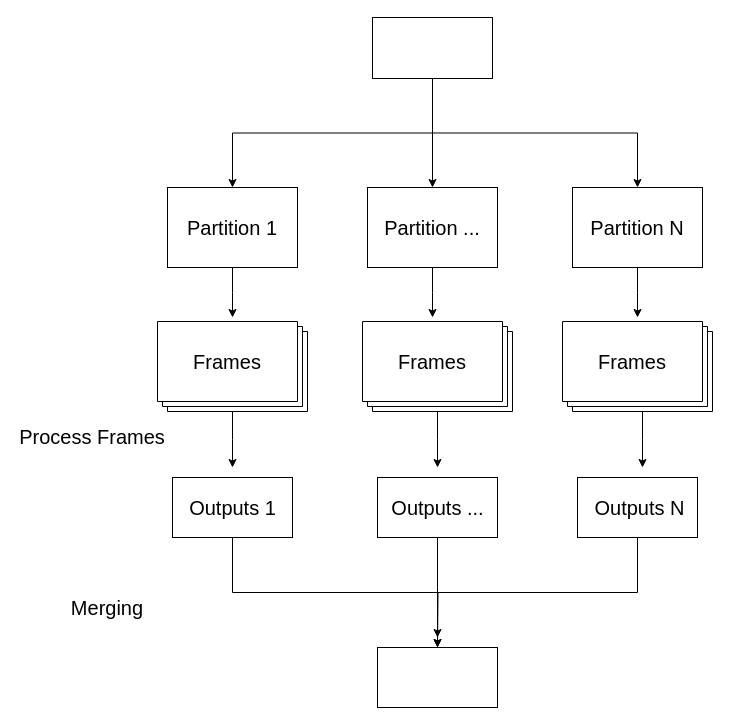
This 730x725 diagram has some shape labels left out. The centre of each missing label's shape, as x and y in pixels:
Data: the point at 432,47
Final Output: the point at 437,677
